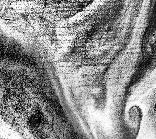CE: (122, 101, 148, 129)
